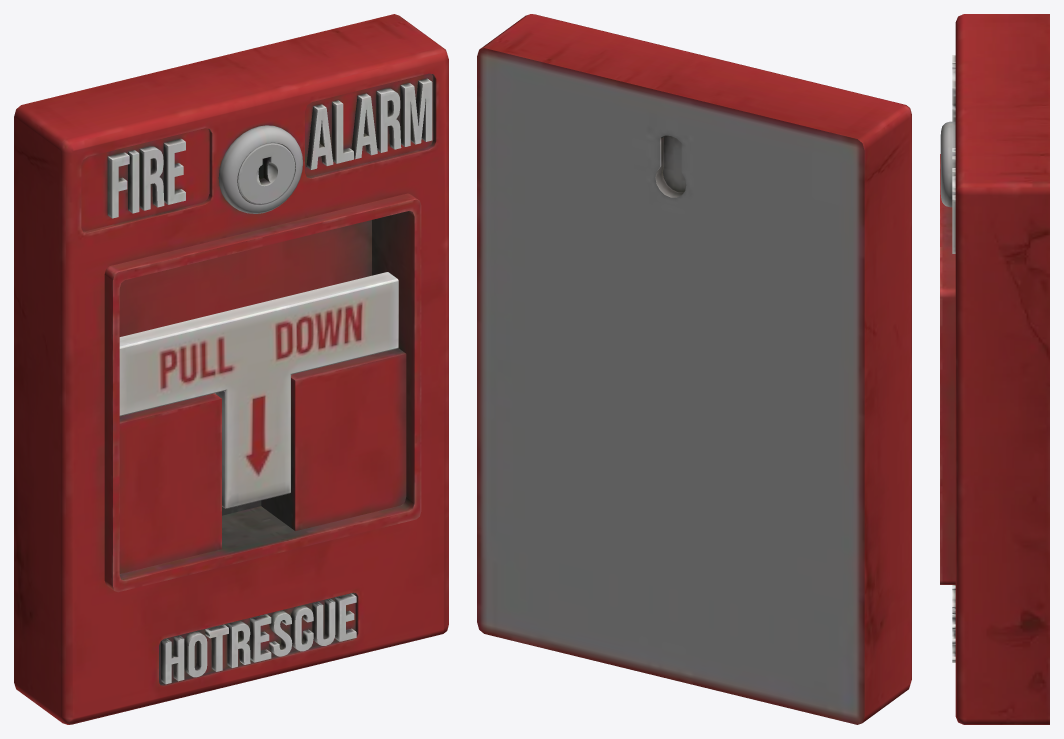
The model's file is fire_alarm.glb.
3 views of the same model, side by side, from view 1: azimuth 30°, elevation 25°; view 2: azimuth 150°, elevation 25°; view 3: azimuth 270°, elevation 25° (orthographic). The views are drawn at different scales.
Visible parts, largest first — view 1: fire_alarm; view 2: fire_alarm; view 3: fire_alarm.
Boxes of the visible parts, x1=… form: fire_alarm: x1=14, y1=14, x2=448, y2=724; fire_alarm: x1=477, y1=14, x2=911, y2=724; fire_alarm: x1=940, y1=14, x2=1049, y2=724.
Bounding box in the file's own units: 0.0994 × 0.1436 × 0.0264.
Materials: 1 (1 with a texture image).
